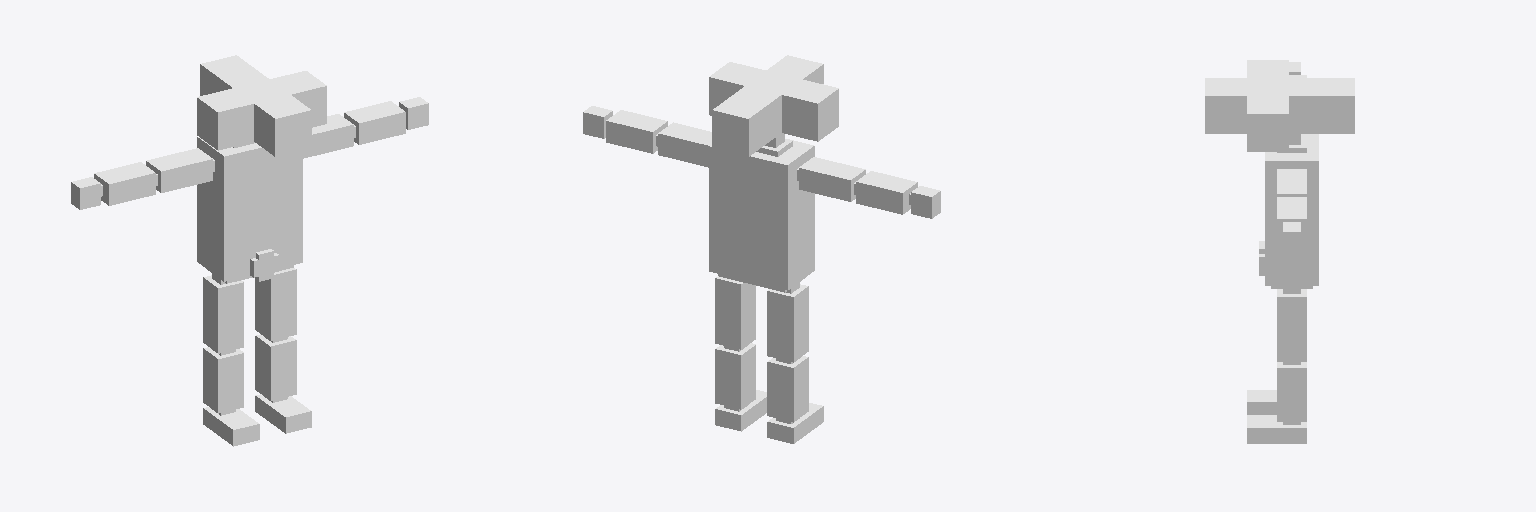
Rendered from char_archer.obj.
3 renders of one model, left to right at view 1: azimuth 30°, elevation 25°; view 2: azimuth 150°, elevation 25°; view 3: azimuth 270°, elevation 25°, orthographic.
Visible parts, largest first — view 1: object 1; view 2: object 1; view 3: object 1.
Boxes of the visible parts, x1,y1,x2,y2 form: object 1: [71, 55, 428, 446]; object 1: [583, 55, 940, 443]; object 1: [1205, 60, 1354, 443].
Bounding box in the file's own units: 6.7 × 6.2 × 2.5.